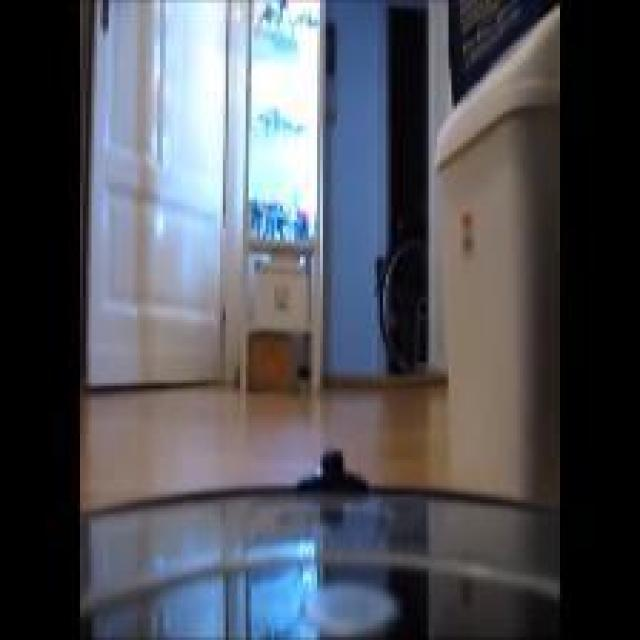other: (274, 44, 317, 231)
